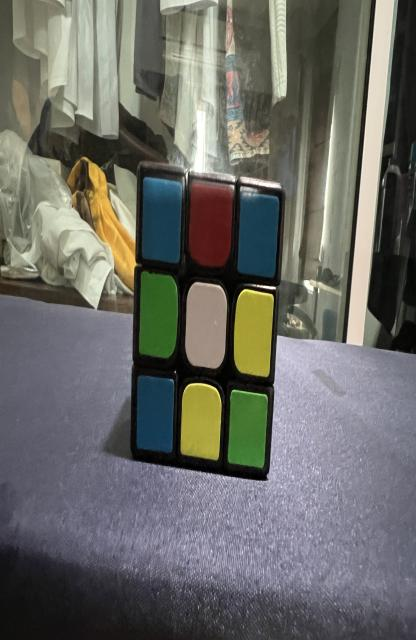Blue: (237, 192, 280, 278), (142, 177, 183, 263), (136, 375, 175, 453)
Green: (139, 272, 178, 358), (228, 390, 268, 468)
Red: (188, 180, 234, 267)
White: (185, 282, 228, 368)
Yellow: (234, 288, 274, 377), (180, 383, 222, 460)
